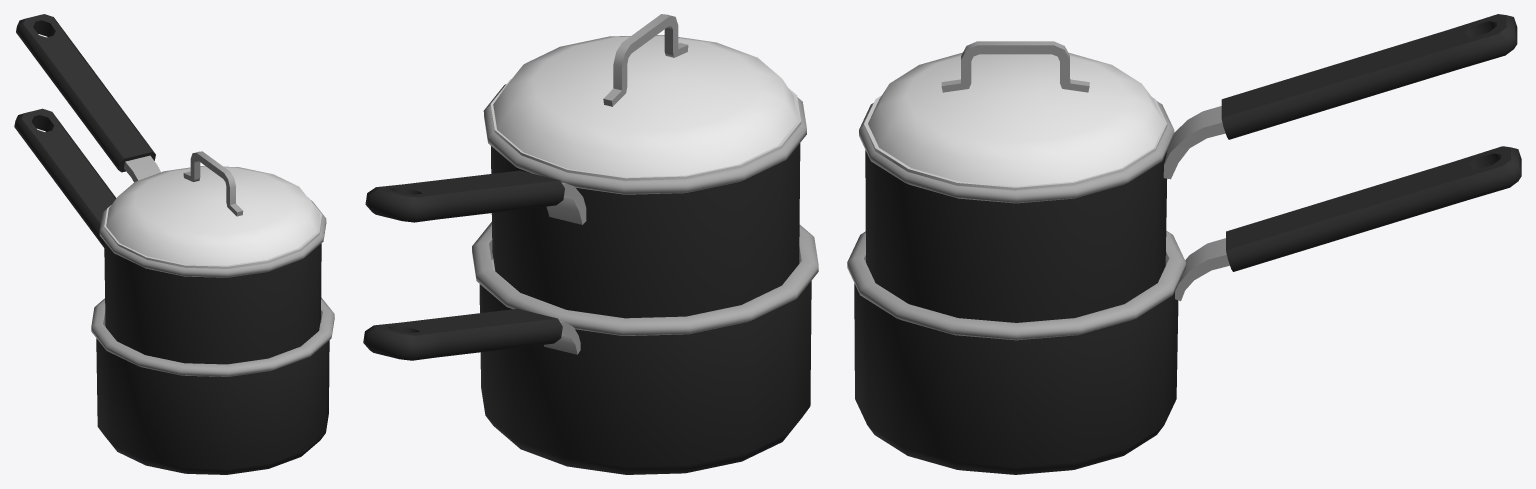
File: DoubleBoiler_01.fbx
The picture shows the model from 3 angles, left to right: view 1: azimuth 30°, elevation 25°; view 2: azimuth 150°, elevation 25°; view 3: azimuth 270°, elevation 25°; orthographic projection. The views are drawn at different scales.
Visible parts, largest first — view 1: DoubleBoiler_01, DoubleBoiler_01_Top, DoubleBoiler_01_Top_Lid; view 2: DoubleBoiler_01, DoubleBoiler_01_Top, DoubleBoiler_01_Top_Lid; view 3: DoubleBoiler_01, DoubleBoiler_01_Top, DoubleBoiler_01_Top_Lid.
Boxes of the visible parts, box(x1,y1,x2,y2) form: DoubleBoiler_01: box(14, 108, 334, 474); DoubleBoiler_01_Top: box(16, 14, 326, 364); DoubleBoiler_01_Top_Lid: box(104, 151, 322, 268); DoubleBoiler_01: box(363, 222, 818, 474); DoubleBoiler_01_Top: box(365, 84, 806, 318); DoubleBoiler_01_Top_Lid: box(490, 14, 801, 180); DoubleBoiler_01: box(847, 146, 1521, 474); DoubleBoiler_01_Top: box(859, 14, 1517, 322); DoubleBoiler_01_Top_Lid: box(864, 41, 1167, 190).
Bounding box in the file's own units: 0.267 × 0.3445 × 0.5316.
